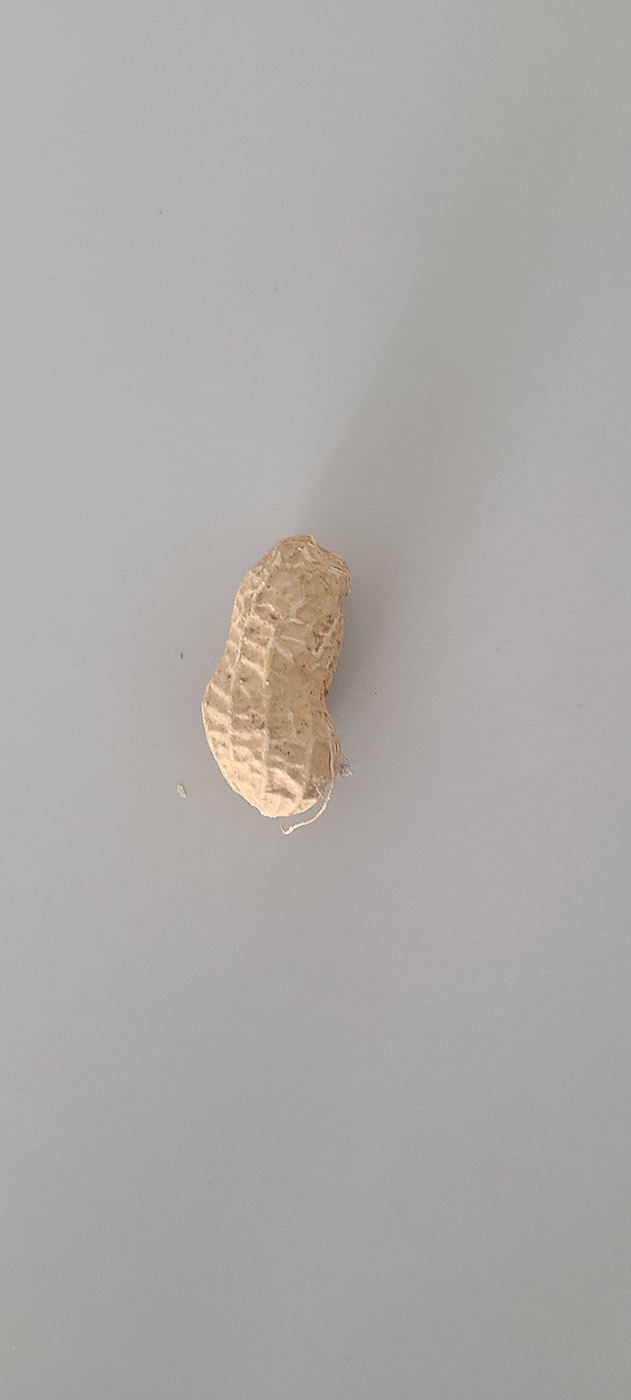h: (203, 537, 349, 817)
